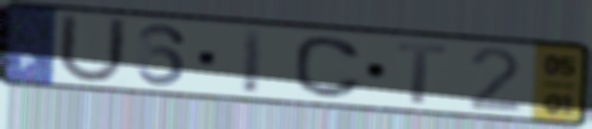2: (464, 45, 526, 113)
6: (135, 22, 189, 88)
C: (291, 34, 367, 101)
I: (238, 26, 269, 96)
T: (395, 41, 451, 107)
U: (53, 10, 131, 87)
